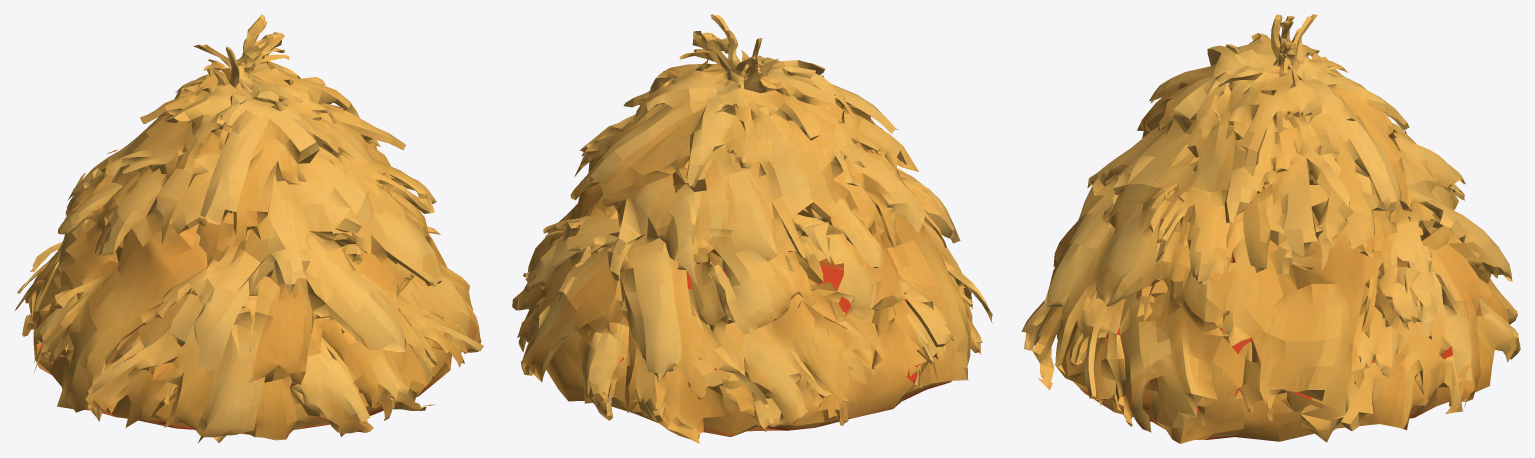
The model's file is saman.glb.
3 views of the same model, side by side, from view 1: azimuth 30°, elevation 25°; view 2: azimuth 150°, elevation 25°; view 3: azimuth 270°, elevation 25° (orthographic). The views are drawn at different scales.
Visible parts, largest first — view 1: Mesh0; view 2: Mesh0; view 3: Mesh0.
Boxes of the visible parts, x1,y1,x2,y2 form: Mesh0: (14, 14, 483, 442); Mesh0: (512, 14, 992, 443); Mesh0: (1021, 14, 1520, 443).
Bounding box in the file's own units: 1.75 × 1.38 × 1.79.
Materials: 1 (1 with a texture image).
